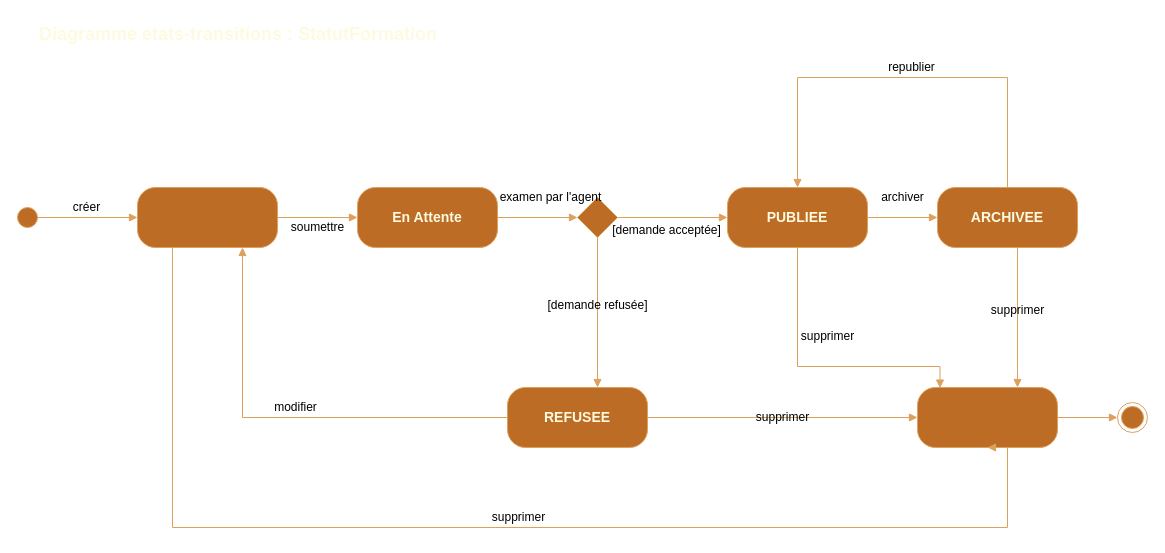
Image size: 1165x553. Some labels were removed from this diagram. Here are the shapes that lost their labels. From the top down, the centre of each, then its label:
At [207,217]: "BROUILLON".
At [987,417]: "SUPPRIMEE".
